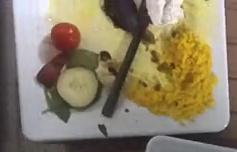rice: (125, 0, 216, 122)
vegetables: (37, 23, 103, 122)
